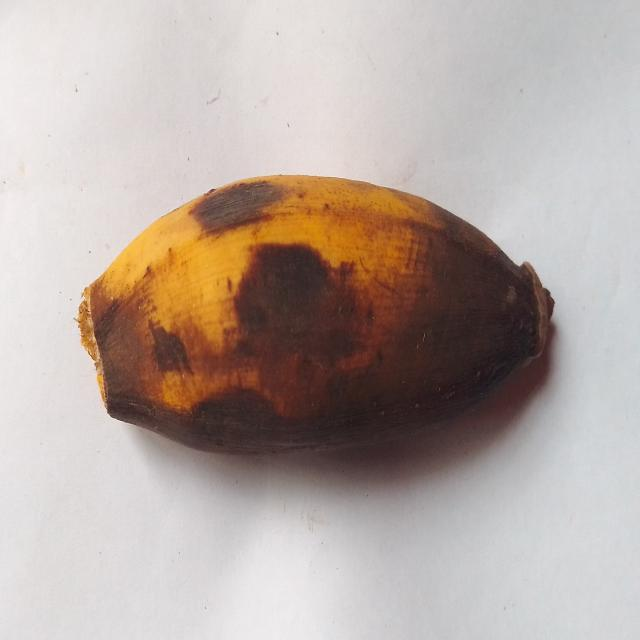banana: (79, 176, 553, 452)
